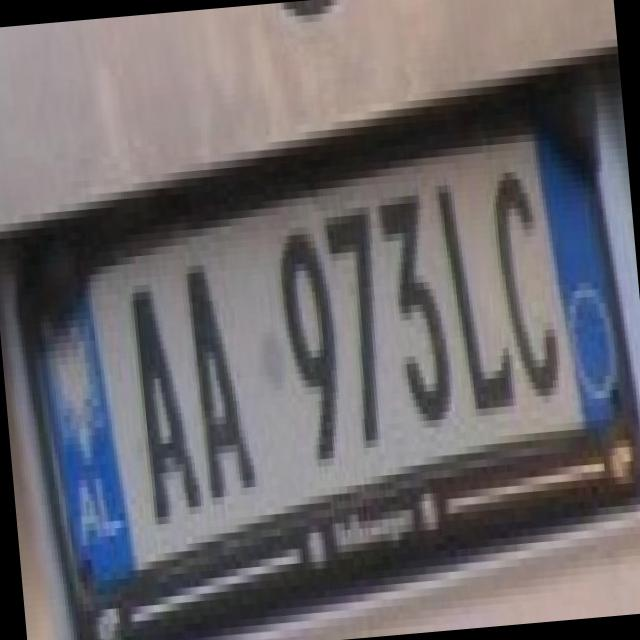3: (363, 171, 456, 431)
7: (314, 184, 398, 443)
9: (254, 202, 353, 463)
A: (162, 239, 260, 506), (106, 258, 204, 520)
C: (476, 146, 572, 406)
L: (424, 151, 518, 411)
